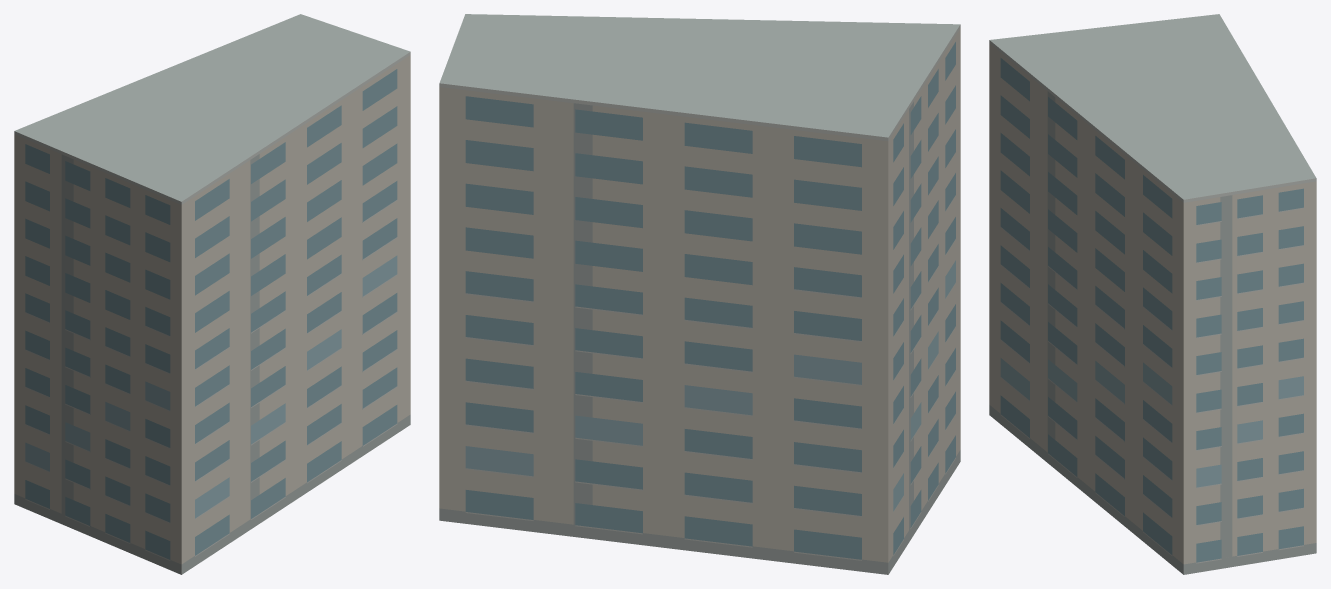
The model's file is residential-c8d04b76-7756-4be0-a02b-cc353515740e.glb.
3 views of the same model, side by side, from view 1: azimuth 30°, elevation 25°; view 2: azimuth 150°, elevation 25°; view 3: azimuth 270°, elevation 25° (orthographic). The views are drawn at different scales.
Visible parts, largest first — view 1: residential-c8d04b76-7756-4be0-a02b-cc353515740e.tmp; view 2: residential-c8d04b76-7756-4be0-a02b-cc353515740e.tmp; view 3: residential-c8d04b76-7756-4be0-a02b-cc353515740e.tmp.
Part boxes in pixels (bbox=[...]): residential-c8d04b76-7756-4be0-a02b-cc353515740e.tmp: bbox=[14, 14, 410, 574]; residential-c8d04b76-7756-4be0-a02b-cc353515740e.tmp: bbox=[439, 14, 960, 574]; residential-c8d04b76-7756-4be0-a02b-cc353515740e.tmp: bbox=[989, 14, 1316, 574].
Bounding box in the file's own units: 30.82 × 29 × 22.93.
